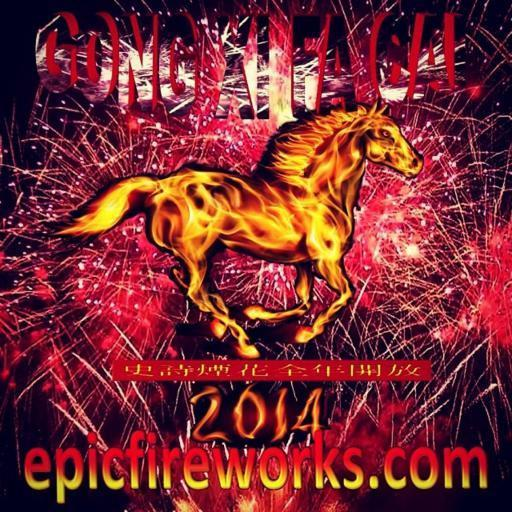horse: (47, 94, 424, 360)
